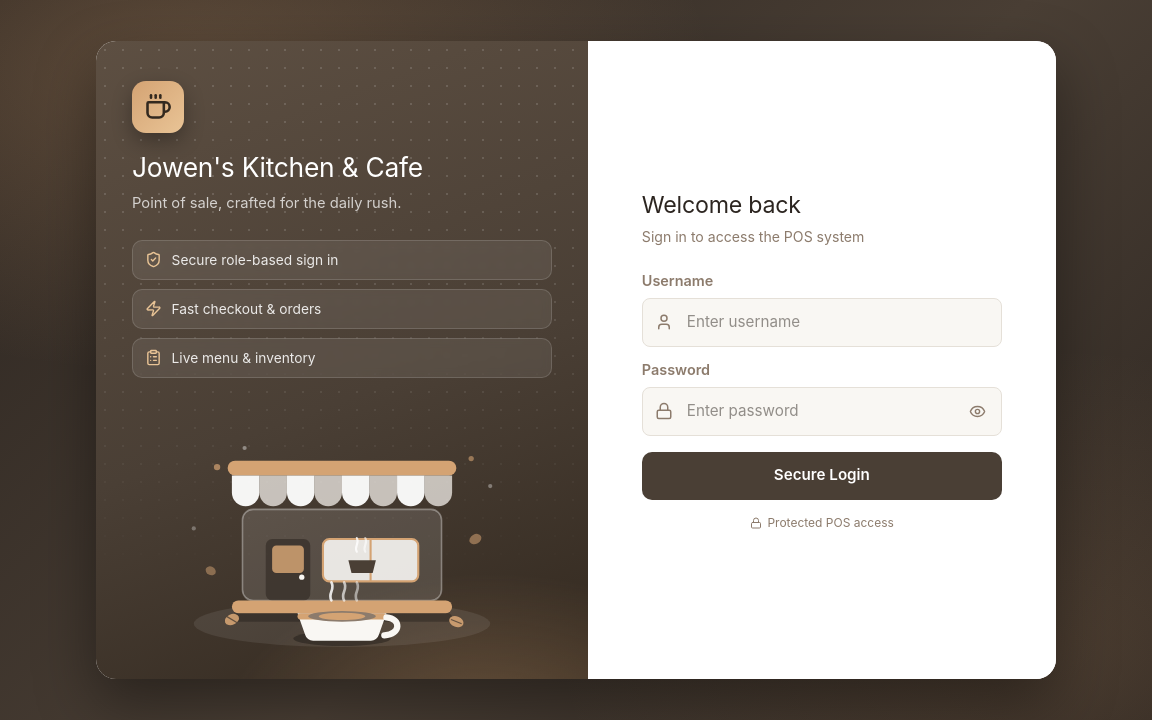
Test case: LoginPage - Authentication › should show error when credentials are wrong
Step 1. Type "wrong" into the field with test id "username-input" → (822, 322), box [642,298,1002,347]
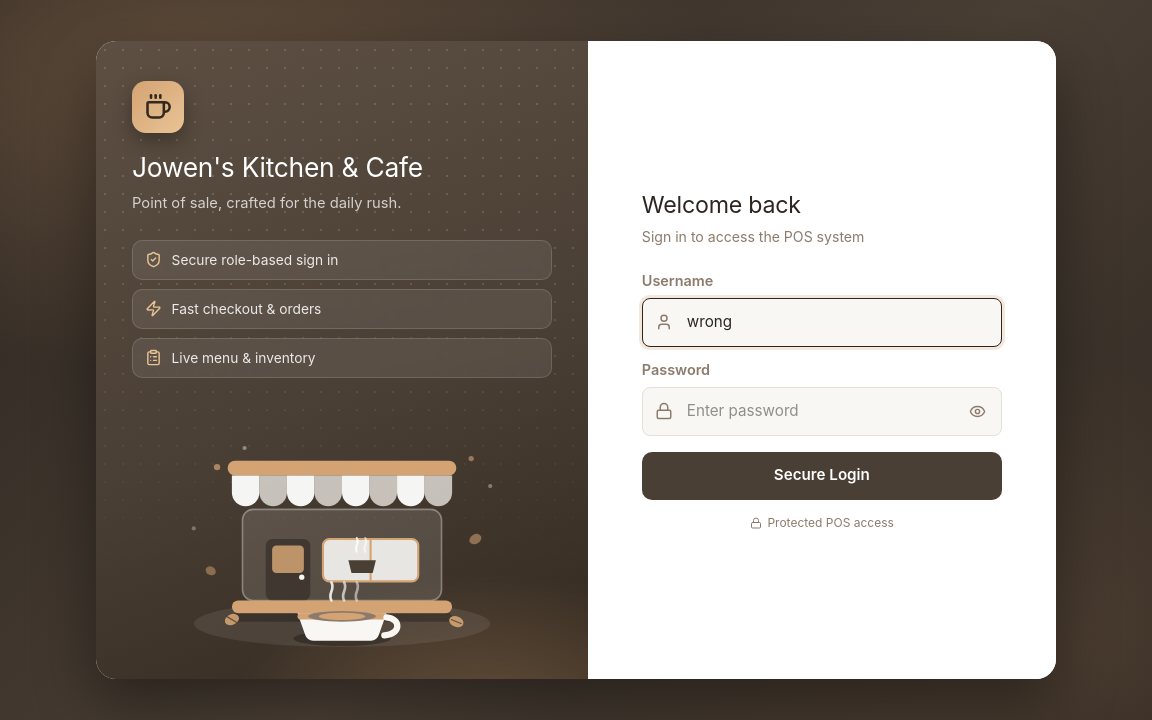
Step 2. Type "wrong" into the password field with test id "password-input" → (822, 411), box [642,387,1002,436]
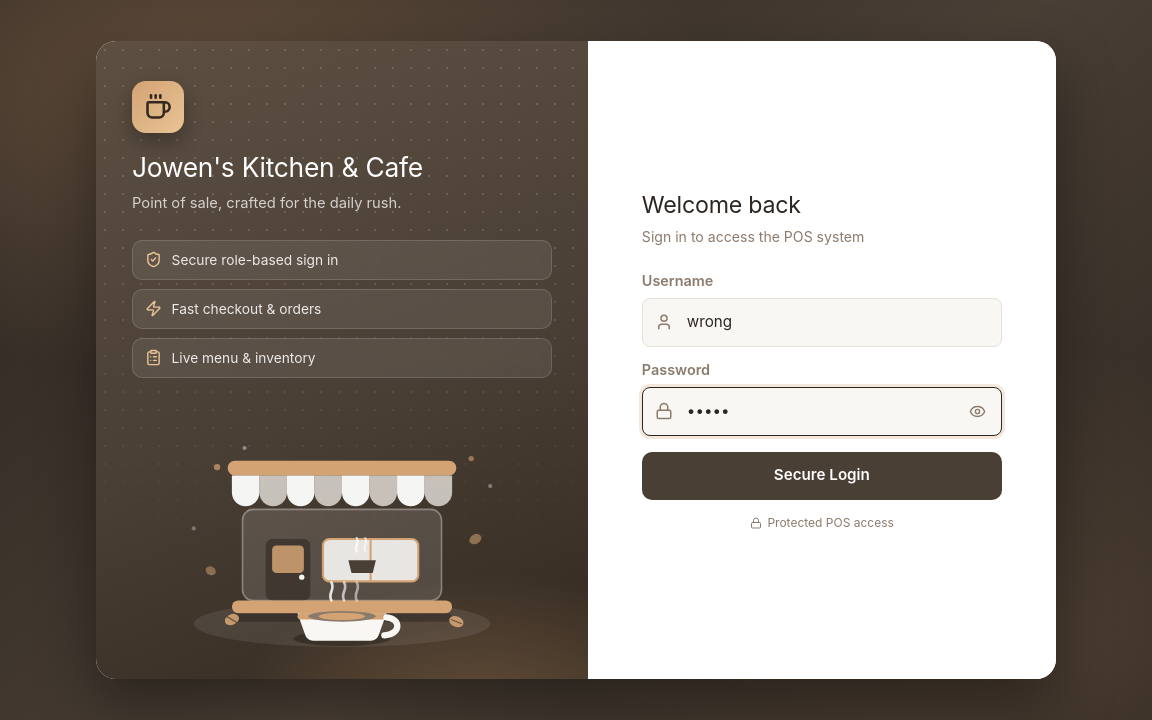
Step 3. Click the button with test id "login-button" → (822, 476), box [642,452,1002,500]
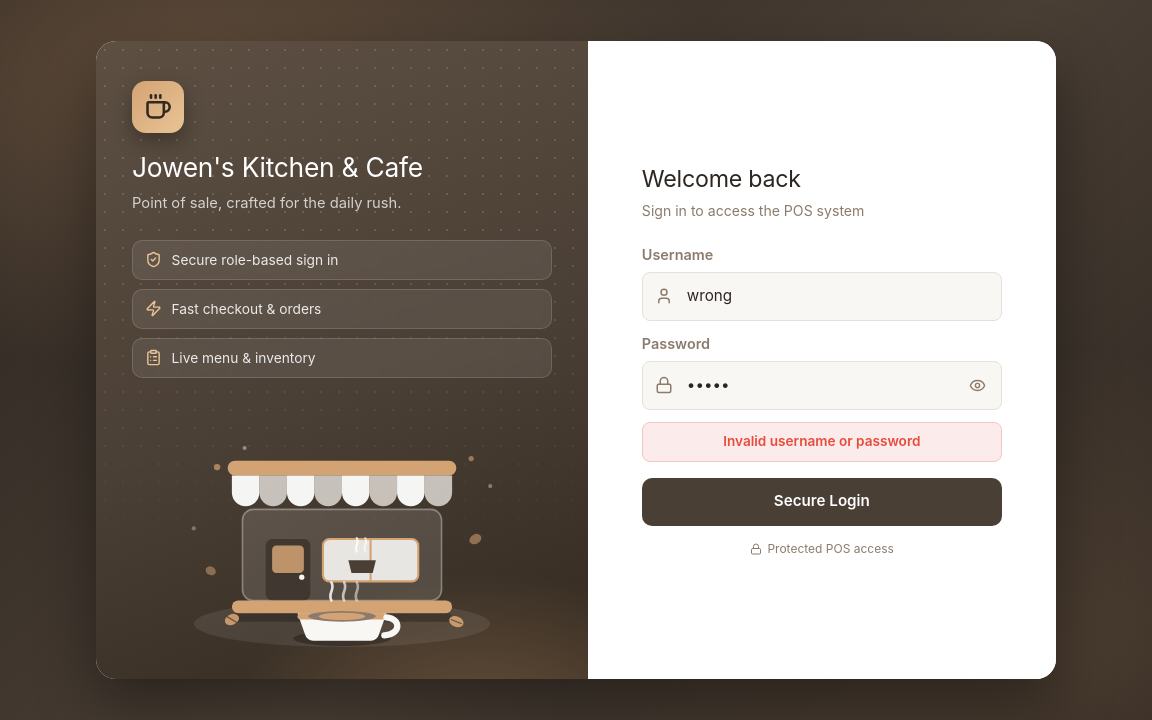
Result: the message with test id "error-message" reads "Invalid username or password" at [723,433,920,449]
